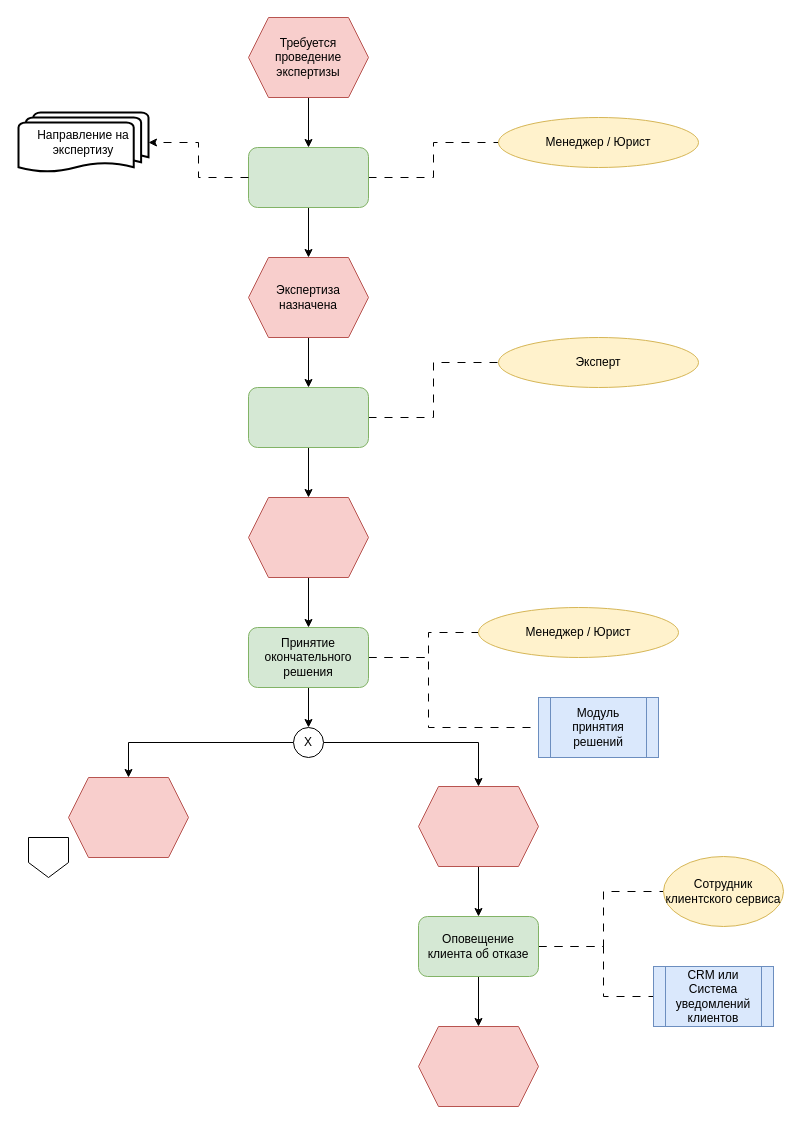
This 801x1124 diagram has some shape labels left out. Here are the shapes that lost their labels. From the top down, the centre of each, then its label:
At pixel 308 177: "Назначение экспертизы".
At pixel 308 417: "Проведение экспертизы".
At pixel 308 537: "Получено заключение эксперта".
At pixel 128 817: "Принято решение удовлетворить требования клиента".
At pixel 478 826: "Принято решение отказать требованиям клиента".
At pixel 478 1066: "Клиент уведомлен".
